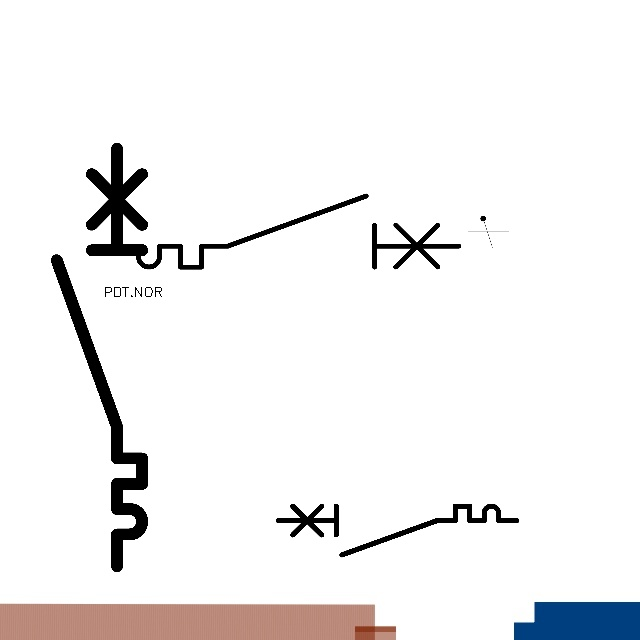interruptor_termomagnetico: (46, 138, 153, 577), (103, 187, 467, 276), (272, 500, 523, 561)
